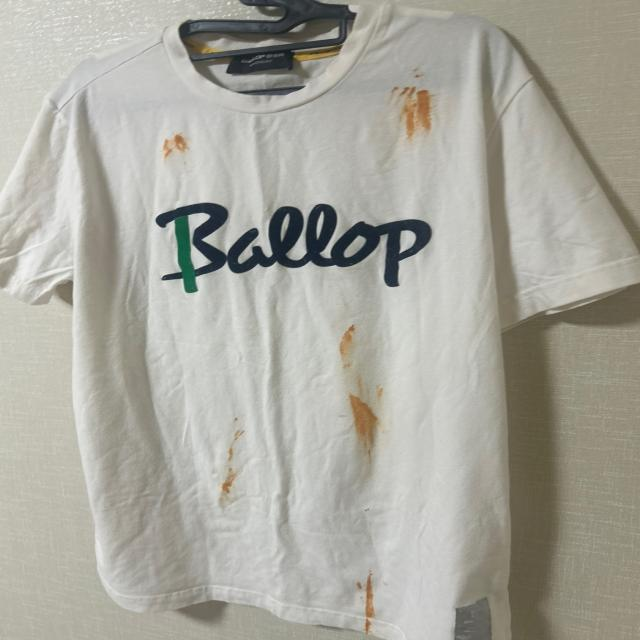stain: (376, 84, 444, 139), (340, 389, 392, 445), (358, 567, 390, 637), (336, 320, 366, 380), (158, 130, 202, 162), (221, 419, 249, 466), (223, 461, 243, 497), (364, 502, 381, 520), (413, 73, 433, 81)
